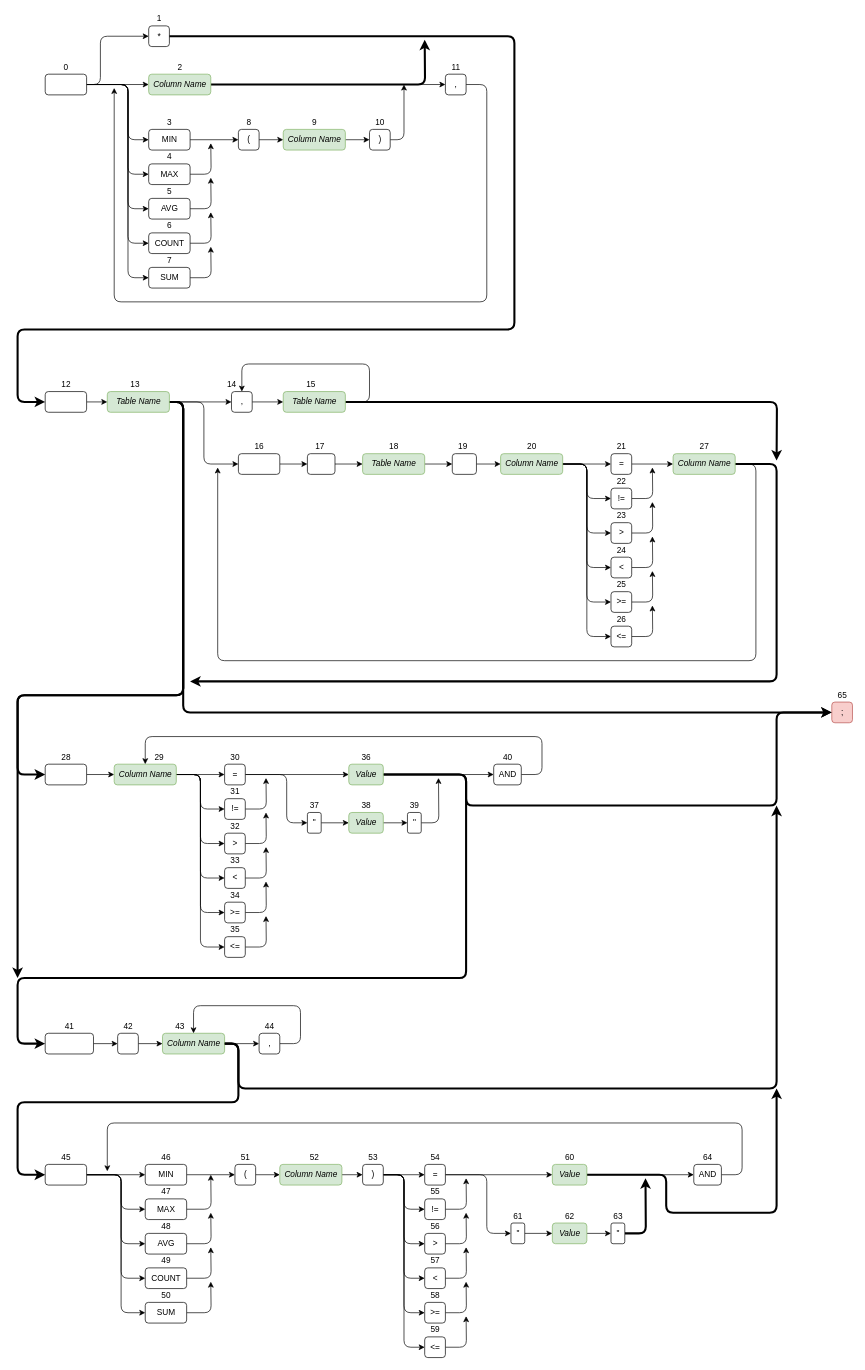
Image size: 865x1370. Some labels were removed from this diagram. Each missing label, with the centre of its shape:
"BY" goes at point 127,1043.
"FROM" goes at point 66,401.
"GROUP" goes at point 69,1043.
"HAVING" goes at point 66,1174.
"INNER" goes at point 259,463.
"JOIN" goes at point 321,463.
"ON" goes at point 464,463.
"SELECT" goes at point 66,84.
"WHERE" goes at point 66,774.
